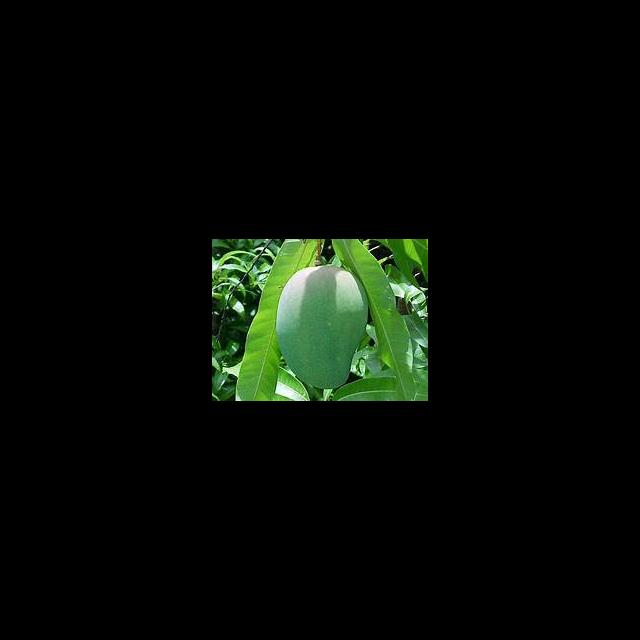mango: (274, 264, 369, 388)
